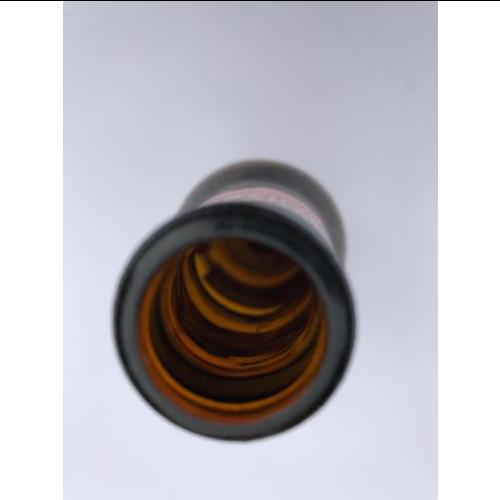glass: (116, 209, 354, 444)
